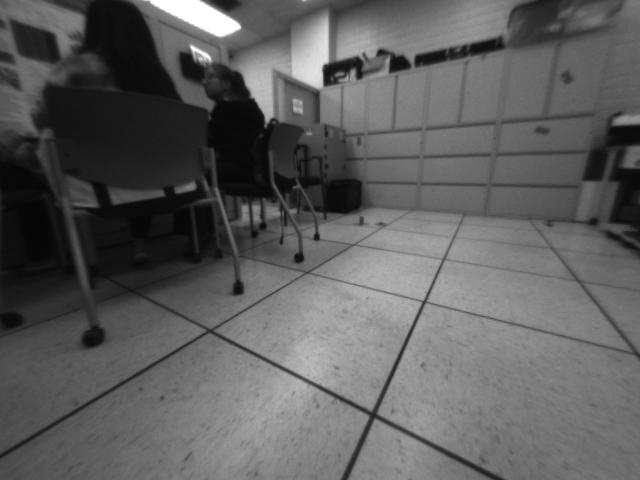X: (352, 214, 371, 228)
